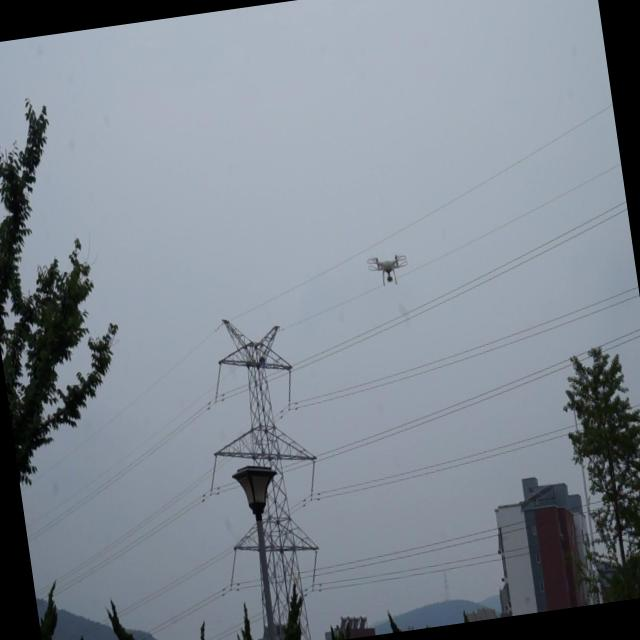drone: (364, 250, 414, 292)
